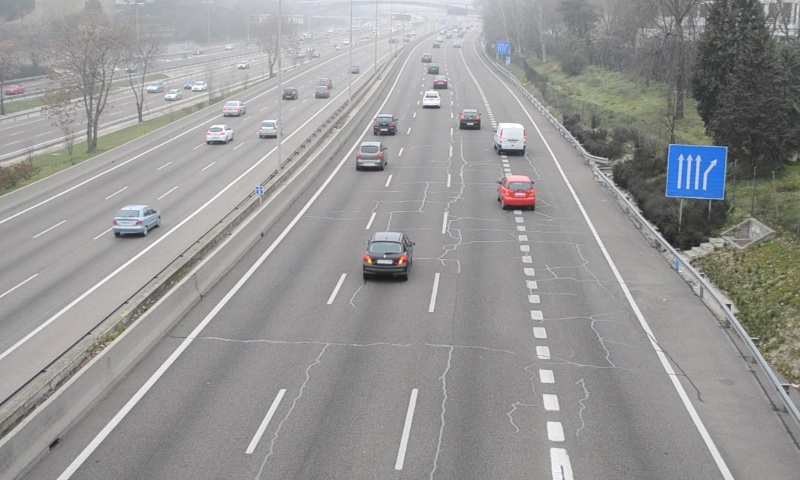car: (362, 233, 411, 278), (498, 174, 534, 208), (355, 141, 388, 172), (372, 114, 398, 137), (458, 108, 482, 130), (421, 88, 441, 108)
van: (493, 122, 526, 156)
